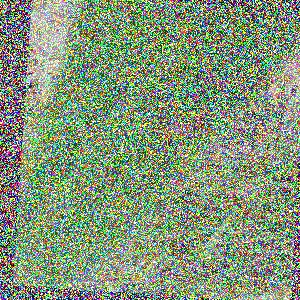Brown_Spot: (144, 101, 216, 150)
